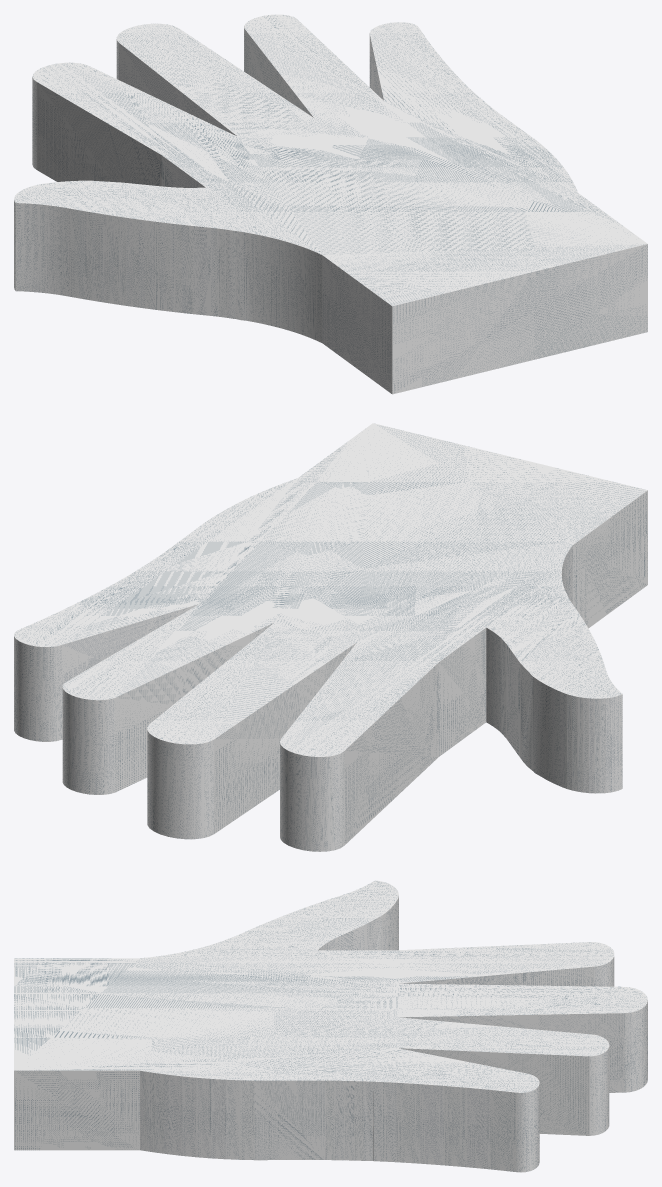
Rendered from hand.fbx.
3 views of the same model, one above another, from view 1: azimuth 30°, elevation 25°; view 2: azimuth 150°, elevation 25°; view 3: azimuth 270°, elevation 25° (orthographic). The views are drawn at different scales.
Visible parts, largest first — view 1: Group1; view 2: Group1; view 3: Group1.
Part boxes in pixels (left/top/right/bottom): Group1: left=14, top=14, right=647, bottom=394; Group1: left=14, top=423, right=647, bottom=851; Group1: left=14, top=880, right=647, bottom=1172.
Bounding box in the file's own units: 17.55 × 3.06 × 22.12.
